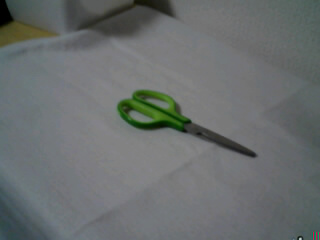003_classes: (115, 86, 254, 164)
